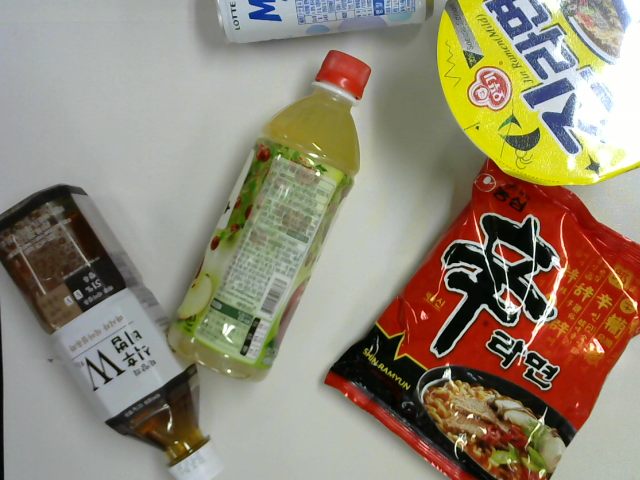Jinlamyeon_Mild_Taste_Large_Cup: (433, 1, 638, 189)
Milkies_250ml: (211, 1, 434, 47)
Morning_Apple_500ml: (156, 47, 379, 384)
Post-meal_recipe_W_tea_500ml: (1, 179, 226, 480)
Sinramen: (321, 149, 637, 480)
